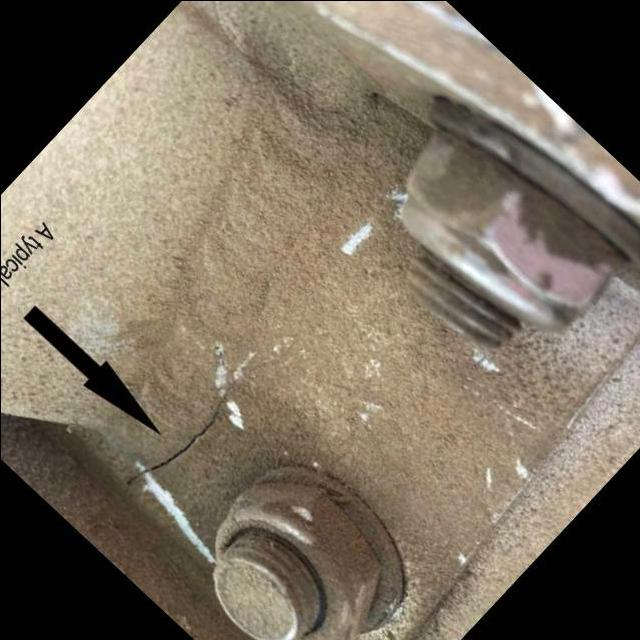defect: (120, 366, 250, 487)
